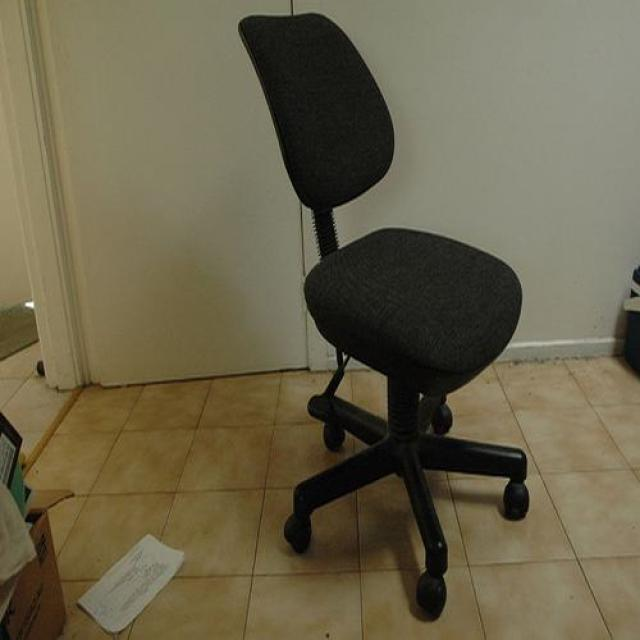swivelchair: (239, 14, 530, 625)
